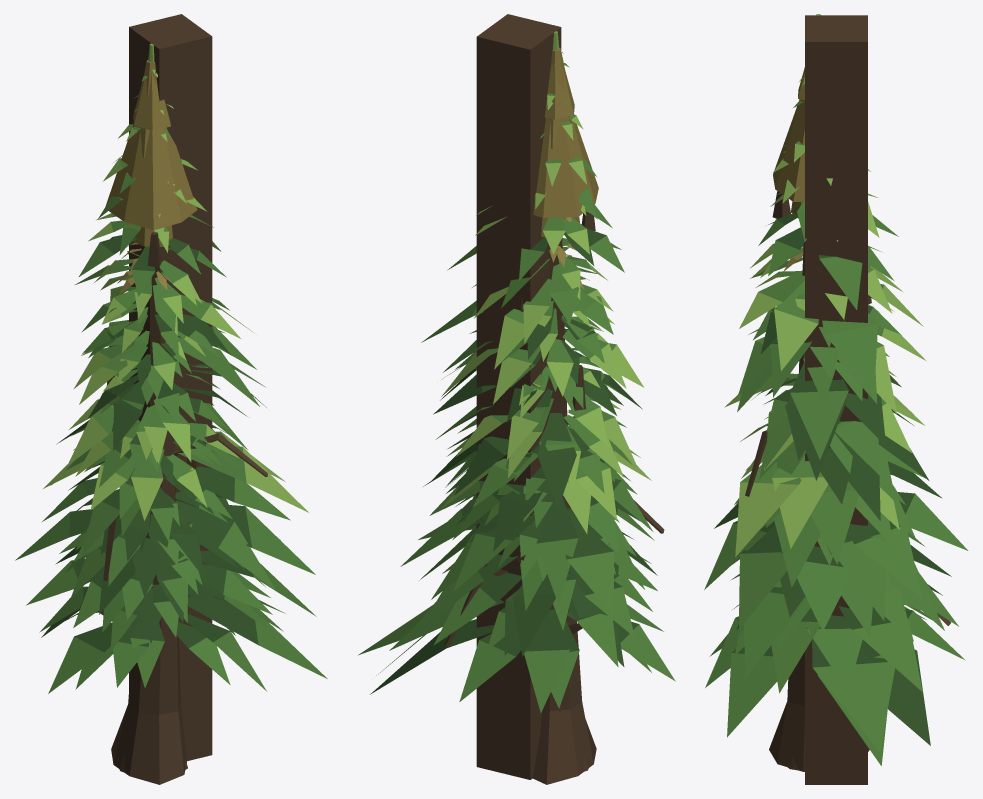
Rendered from tree_conifer.glb.
3 renders of one model, left to right at view 1: azimuth 30°, elevation 25°; view 2: azimuth 150°, elevation 25°; view 3: azimuth 270°, elevation 25°, orthographic. The views are drawn at different scales.
Visible parts, largest first — view 1: TreeConifer_Full_LOD0, col_TreeConifer, TreeConifer_Half_LOD0, TreeConifer_Low_LOD0; view 2: TreeConifer_Full_LOD0, col_TreeConifer, TreeConifer_Half_LOD0, TreeConifer_Low_LOD0; view 3: TreeConifer_Full_LOD0, col_TreeConifer, TreeConifer_Half_LOD0, TreeConifer_Low_LOD0.
Part boxes in pixels (x1,y1,x2,y2): TreeConifer_Full_LOD0: [15, 43, 327, 784]; col_TreeConifer: [129, 14, 212, 761]; TreeConifer_Half_LOD0: [59, 60, 247, 566]; TreeConifer_Low_LOD0: [105, 73, 197, 470]; TreeConifer_Full_LOD0: [358, 31, 675, 784]; col_TreeConifer: [476, 14, 561, 779]; TreeConifer_Half_LOD0: [420, 47, 637, 580]; TreeConifer_Low_LOD0: [520, 62, 598, 410]; TreeConifer_Full_LOD0: [704, 14, 968, 771]; col_TreeConifer: [805, 15, 867, 784]; TreeConifer_Half_LOD0: [764, 201, 906, 636]; TreeConifer_Low_LOD0: [772, 67, 871, 304].
Size of what is drawn, in the model's own units: 2.62 by 6.5 by 2.1.
